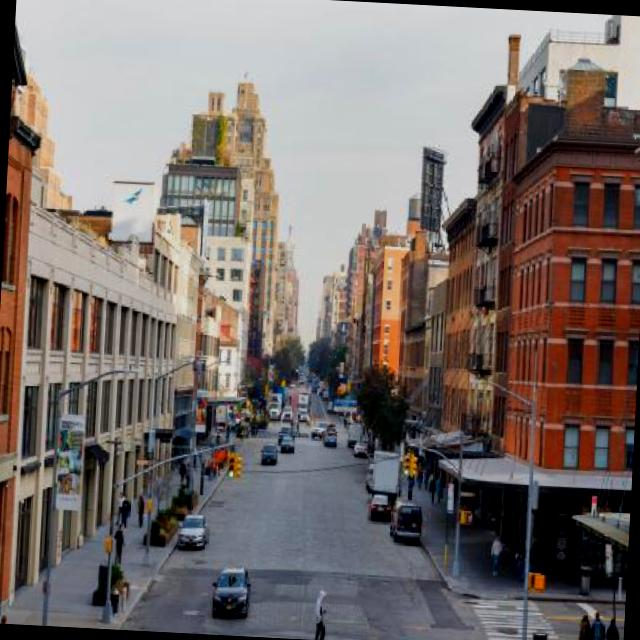Person: (306, 585, 340, 640)
